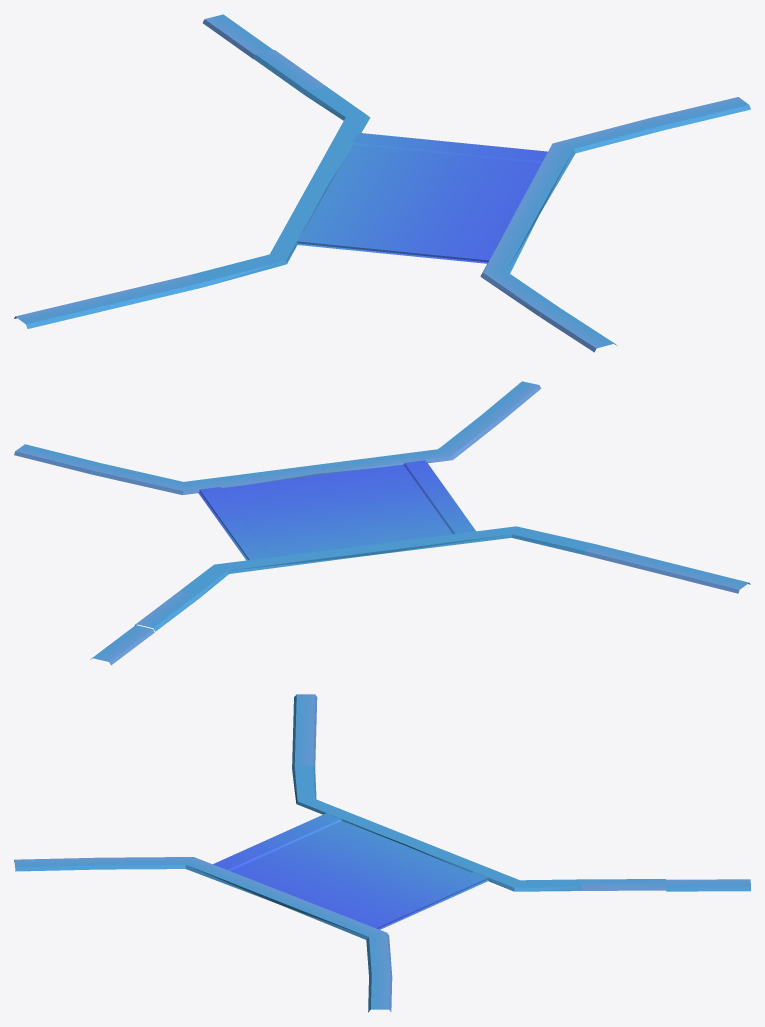
File: Area_08_27.fbx
3 renders of one model, top to bottom at view 1: azimuth 30°, elevation 25°; view 2: azimuth 150°, elevation 25°; view 3: azimuth 270°, elevation 25°, orthographic. The views are drawn at different scales.
Parts seen in each view (by area): view 1: Area_08_27; view 2: Area_08_27; view 3: Area_08_27.
Boxes of the visible parts, x1,y1,x2,y2 form: Area_08_27: (14,14,750,352); Area_08_27: (14,381,750,665); Area_08_27: (14,694,750,1012).
Bounding box in the file's own units: 3905 × 23.66 × 3852.
